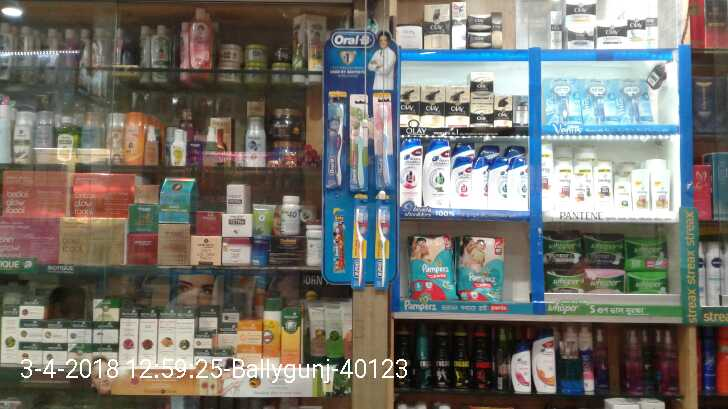venus: (545, 80, 582, 125), (582, 78, 616, 125), (619, 78, 647, 123)
